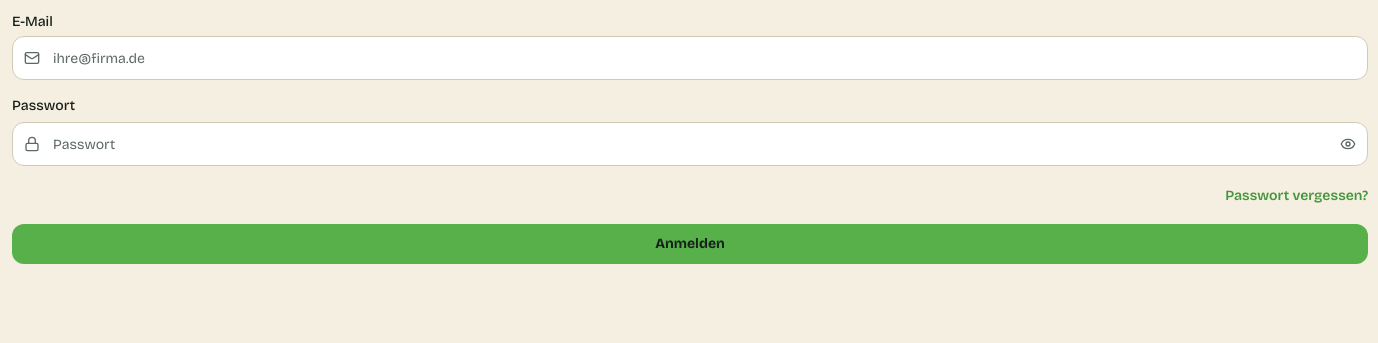
Test: LoginForm › shows the generic message on invalid credentials and does not call onSuccess
The width and height of the screenshot is (1378, 343).
Type "x@y.de" into the field with placeholder "ihre@firma.de". click: (690,58)
box: [12,36,1368,80]
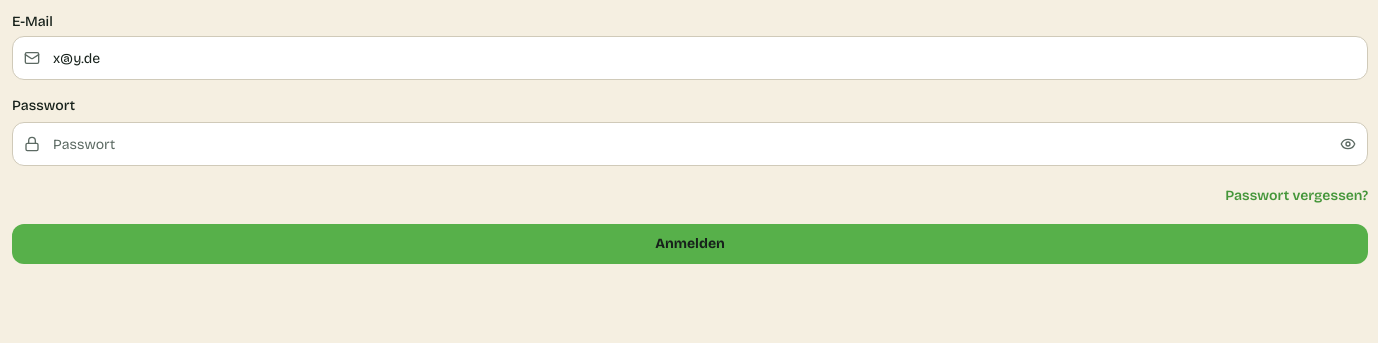
Type "wrong" into the password field with placeholder "Passwort". click: (690,144)
box: [12,122,1368,166]
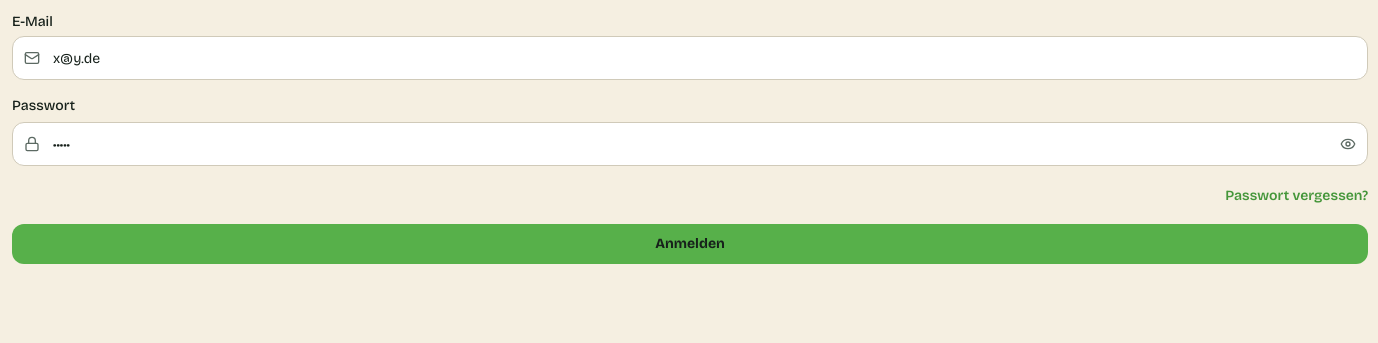
Click the button "Anmelden". click: (690,244)
box: [12,224,1368,264]
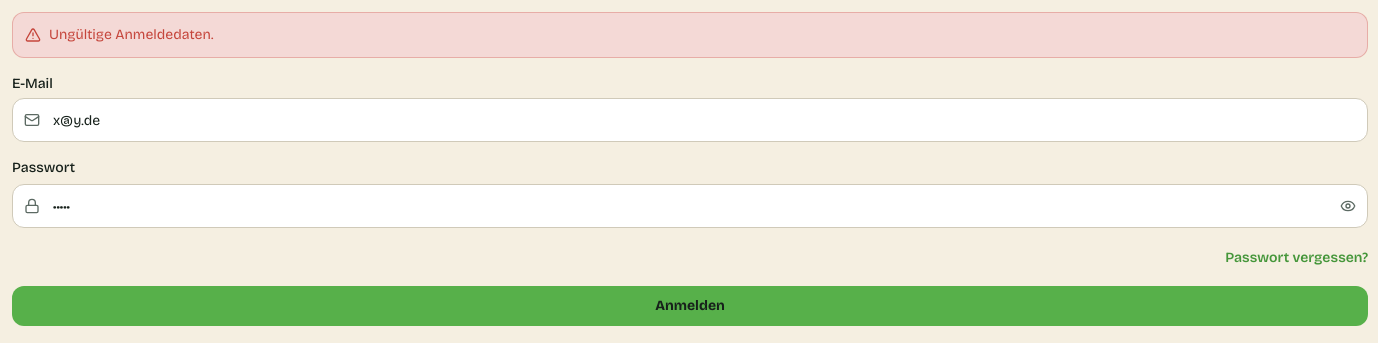
Now the text "Ungültige Anmeldedaten." is shown, box [49,25,213,45]
